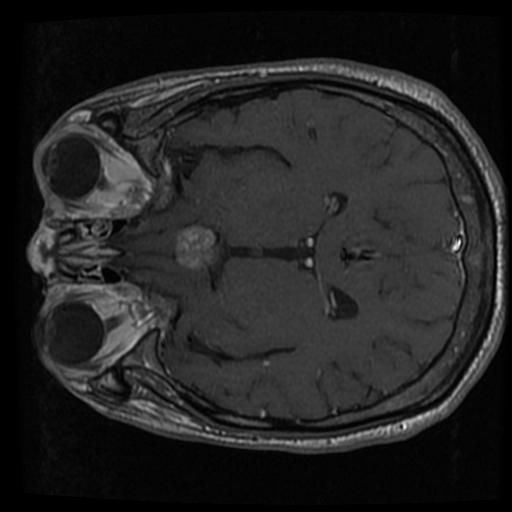pituitary tumour: (175, 228, 214, 269)
